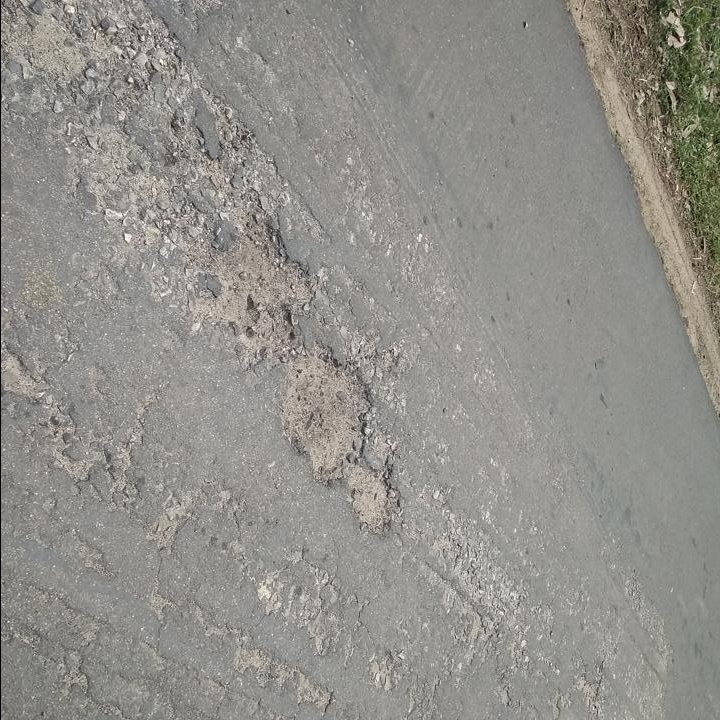pothole: (197, 204, 322, 364), (279, 337, 377, 485), (346, 457, 402, 538)
